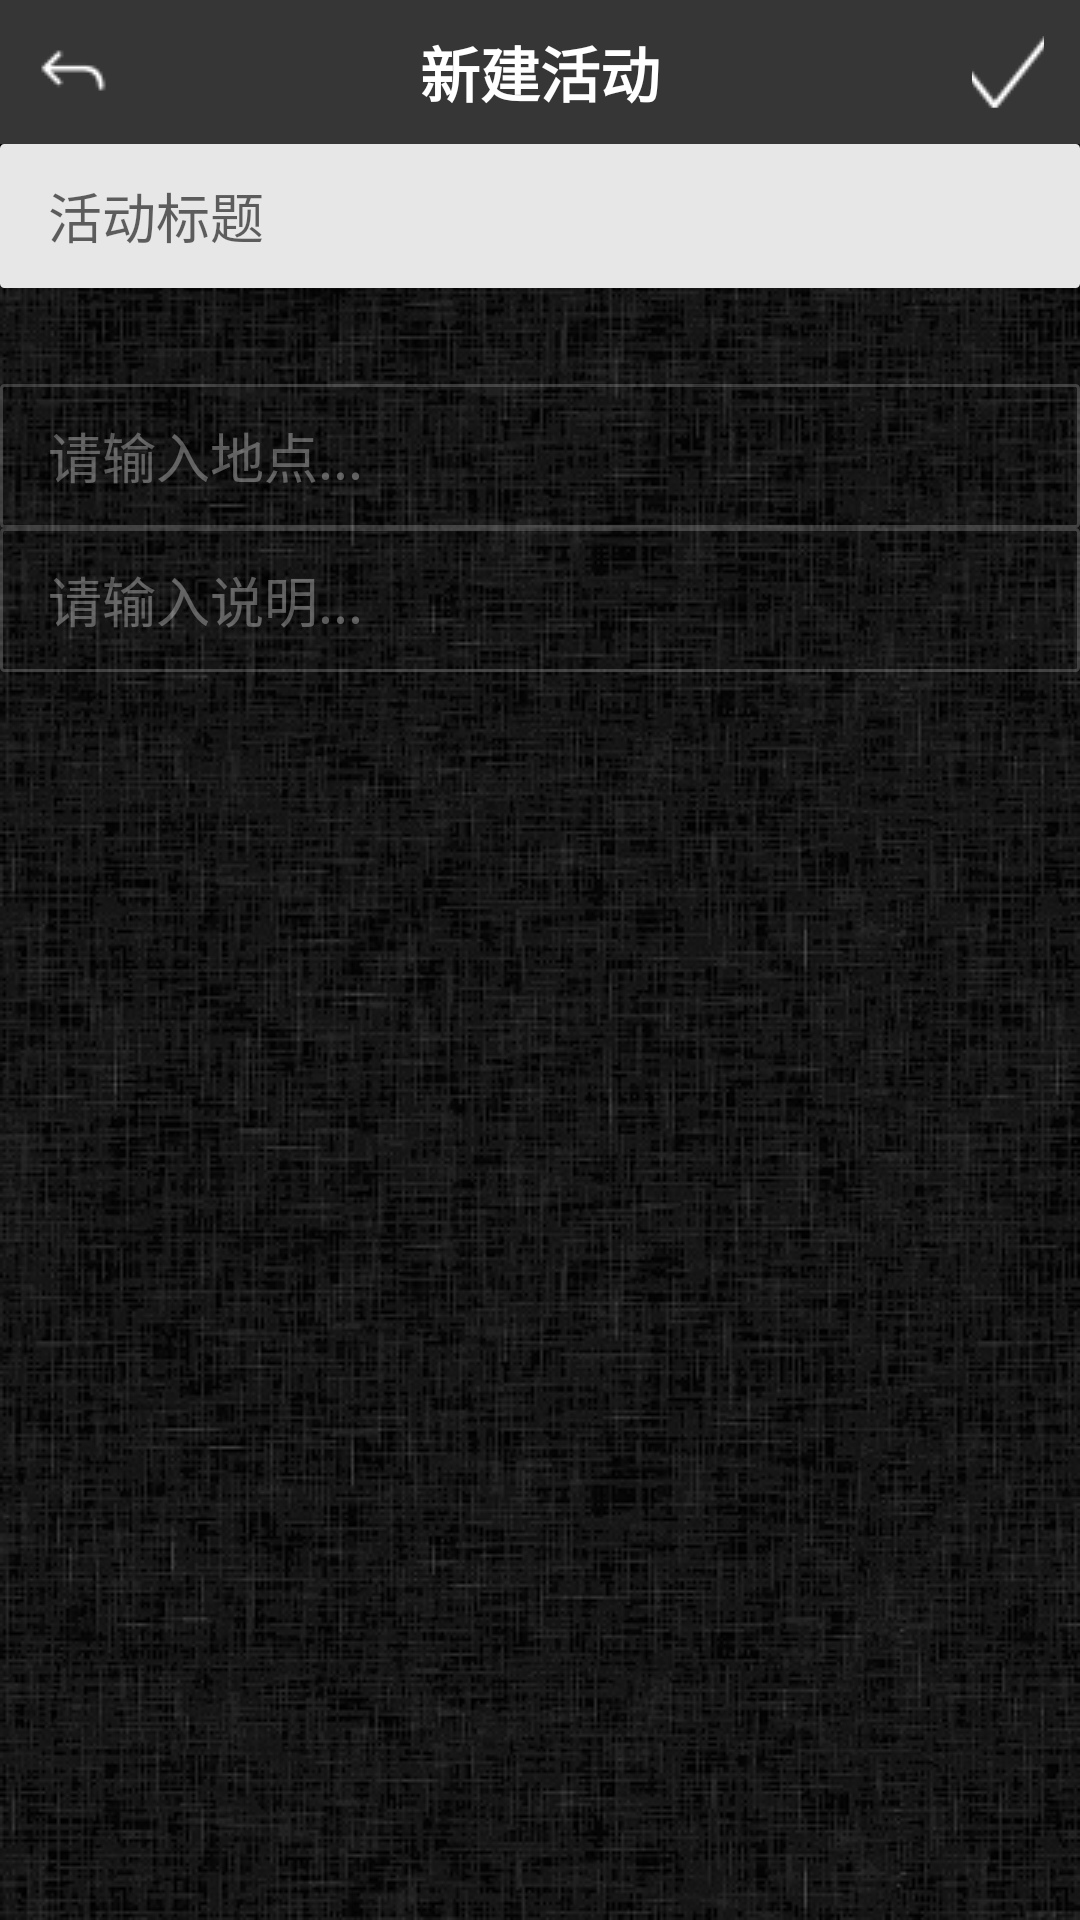

Point at icon controls on the screen. Image size 1080×1920, points as (x=x, y=y).
arrow back: (x=73, y=70)
arrows check: (x=1008, y=72)
